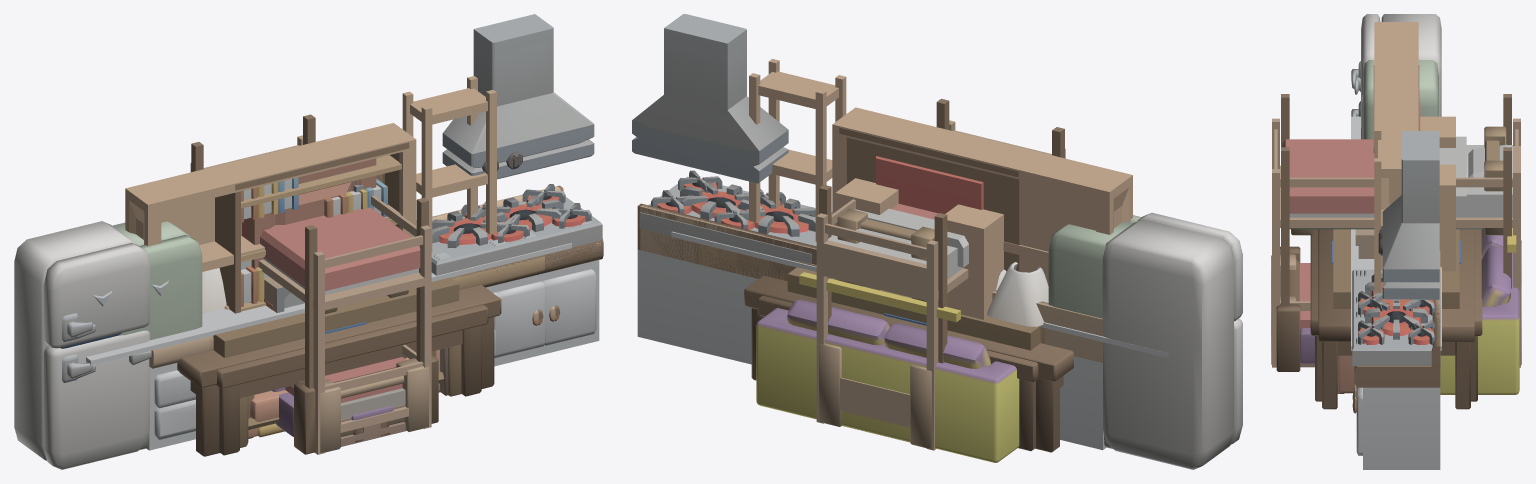
File: academy_props.glb
3 views of the same model, side by side, from view 1: azimuth 30°, elevation 25°; view 2: azimuth 150°, elevation 25°; view 3: azimuth 270°, elevation 25° (orthographic). The views are drawn at different scales.
Parts seen in each view (by area): view 1: kitchen_4, kitchen_3, library_4, bunk_1, kitchen_2, table_4, bookcase_4, desk_4, kitchen_island_3, bed_3, bunk_2, door_a (+5 smaller); view 2: kitchen_4, kitchen_3, sofa_4, library_4, kitchen_2, bunk_1, desk_4, speaker_5, bookcase_4, bunk_2, door_b, kitchen_island_3 (+3 smaller); view 3: kitchen_4, bunk_1, library_4, desk_4, sofa_4, bunk_2, kitchen_2, bed_4, table_4, kitchen_3, speaker_5, kitchen_island_3 (+4 smaller).
Boxes of the visible parts, x1,y1,x2,y2 form: kitchen_4: (14,14,603,469); kitchen_3: (60,41,600,450); library_4: (125,76,496,271); bunk_1: (190,135,431,454); kitchen_2: (112,209,544,449); table_4: (216,305,488,455); bookcase_4: (215,142,409,313); desk_4: (177,268,501,456); kitchen_island_3: (213,277,459,357); bed_3: (320,358,428,452); bunk_2: (191,114,428,388); door_a: (245,158,376,268); kitchen_4: (632,14,1242,469); kitchen_3: (640,42,1106,450); sofa_4: (756,299,1019,462); library_4: (749,59,1132,285); kitchen_2: (698,192,1141,448); bunk_1: (816,120,1065,450); desk_4: (744,262,1073,452); speaker_5: (835,178,1003,319); bookcase_4: (839,127,1019,271); bunk_2: (819,98,1064,363); door_b: (876,156,983,213); kitchen_island_3: (787,260,1040,350); kitchen_4: (1351,14,1441,469); bunk_1: (1272,118,1520,367); library_4: (1374,22,1418,294); desk_4: (1318,229,1474,409); sofa_4: (1440,228,1519,394); bunk_2: (1281,94,1511,306); kitchen_2: (1352,60,1440,392); bed_4: (1276,228,1516,371); table_4: (1310,229,1482,401); kitchen_3: (1352,76,1440,404); speaker_5: (1420,116,1455,271); kitchen_island_3: (1333,229,1459,308).
Bounding box in the file's own units: 4.95 × 2.6 × 1.98.
